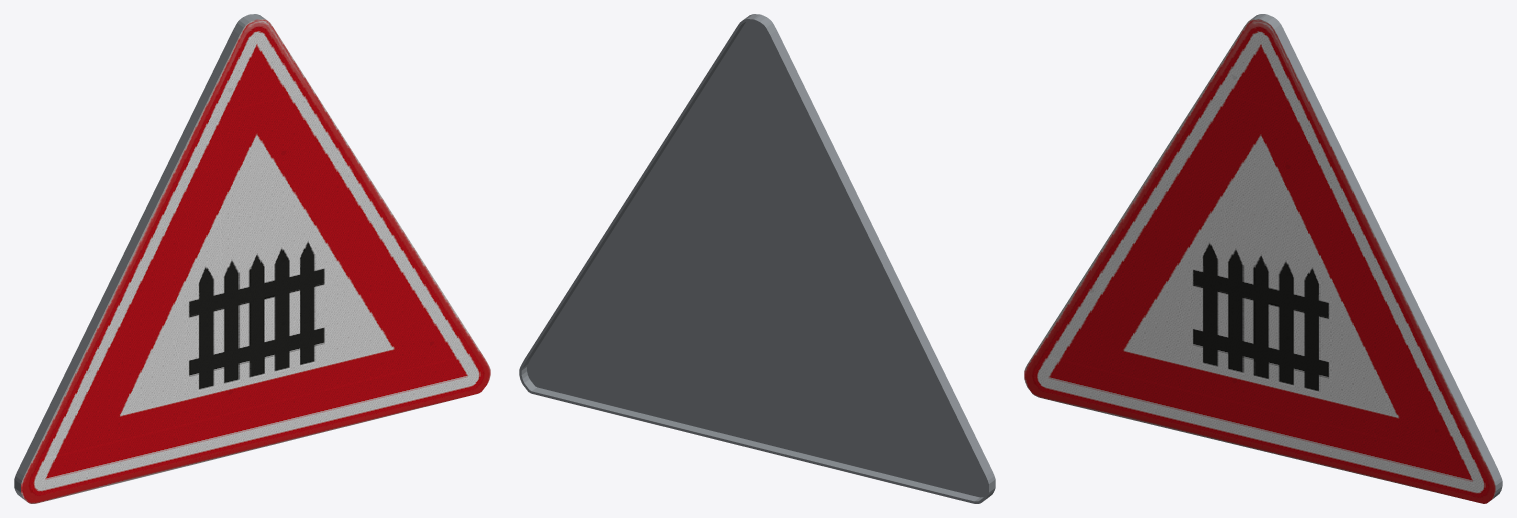
The picture shows the model from 3 angles, left to right: view 1: azimuth 30°, elevation 25°; view 2: azimuth 150°, elevation 25°; view 3: azimuth 330°, elevation 25°; orthographic projection.
Parts seen in each view (by area): view 1: cat_4c49ba6731a4c6a3; view 2: cat_4c49ba6731a4c6a3; view 3: cat_4c49ba6731a4c6a3.
Part boxes in pixels (x1,y1,x2,y2): cat_4c49ba6731a4c6a3: [14, 14, 490, 503]; cat_4c49ba6731a4c6a3: [519, 14, 995, 503]; cat_4c49ba6731a4c6a3: [1024, 14, 1502, 503].
Bounding box in the file's own units: 0.6 × 0.015 × 0.5256.
Materials: 2 (1 with a texture image).
